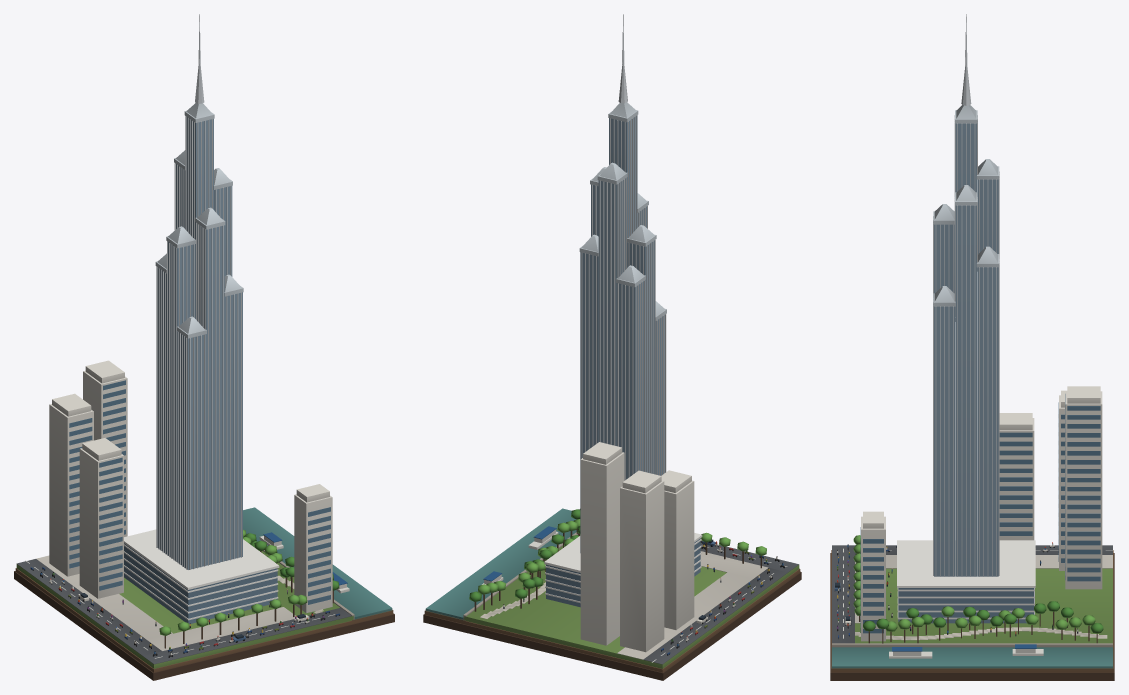
File: landmark-81.glb
3 views of the same model, side by side, from view 1: azimuth 30°, elevation 25°; view 2: azimuth 150°, elevation 25°; view 3: azimuth 270°, elevation 25° (orthographic). The views are drawn at different scales.
Parts seen in each view (by area): view 1: L8_env_HC_bike_2E2E30; view 2: L8_env_HC_bike_2E2E30; view 3: L8_env_HC_bike_2E2E30.
Part boxes in pixels (x1,y1,x2,y2): L8_env_HC_bike_2E2E30: (14,14,394,680); L8_env_HC_bike_2E2E30: (423,14,801,680); L8_env_HC_bike_2E2E30: (830,14,1114,680).
Size of the model in its own units: 92 by 215 by 92.
Materials: 1 (1 with a texture image).
